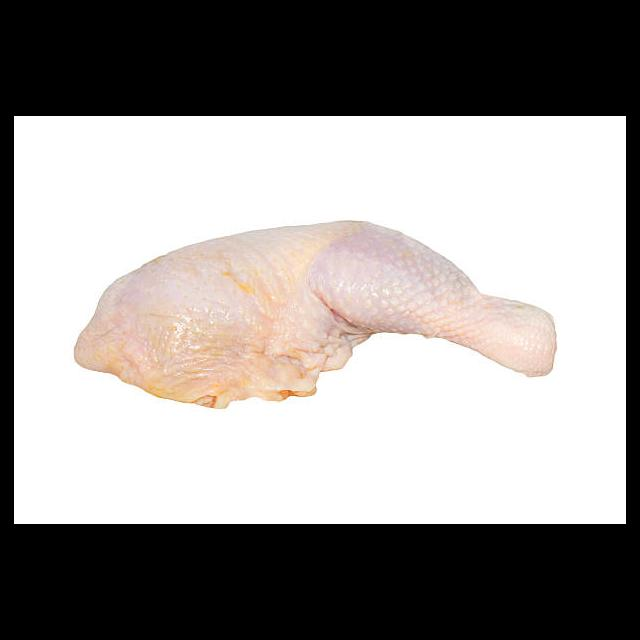chicken: (74, 219, 559, 410)
